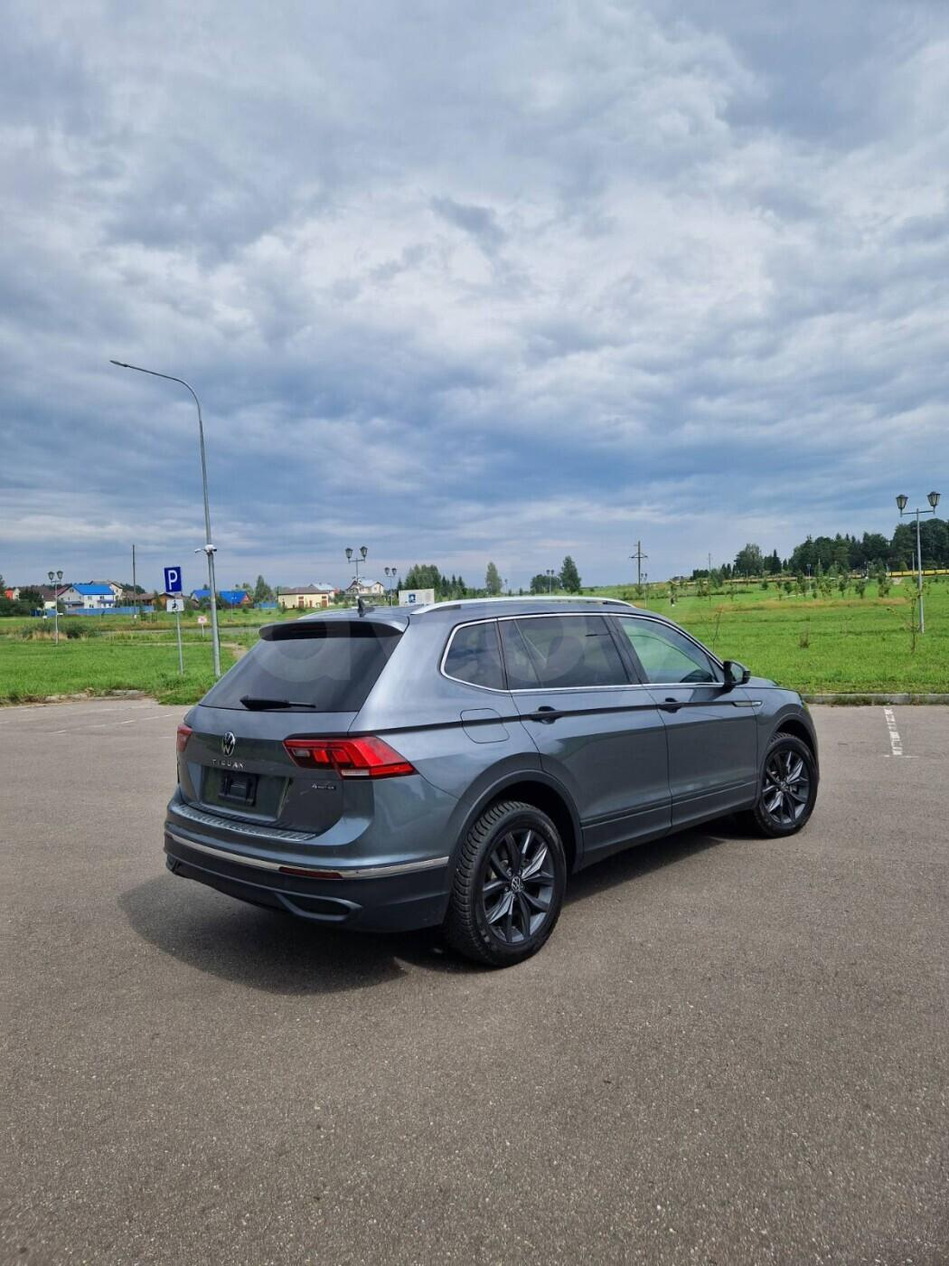Tiguan_2020-2024: (157, 597, 819, 969)
